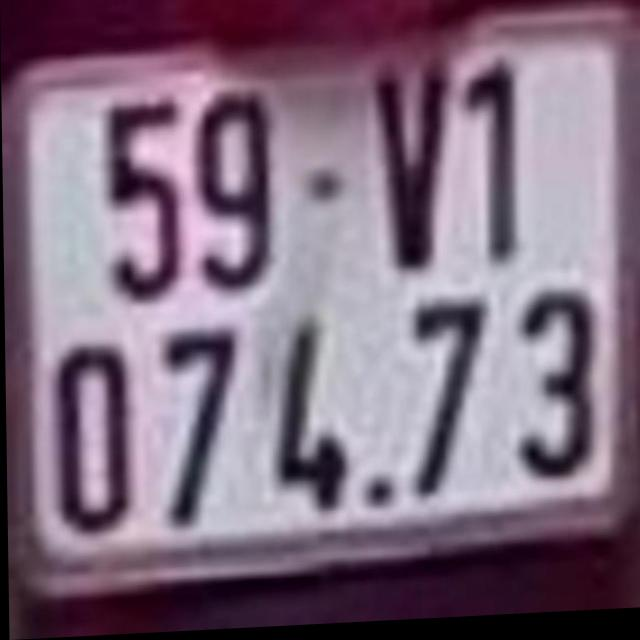0: (47, 336, 128, 540)
1: (461, 62, 523, 276)
3: (516, 281, 600, 501)
4: (275, 319, 346, 509)
5: (105, 98, 183, 309)
7: (154, 324, 237, 534), (408, 303, 485, 504)
9: (192, 89, 275, 299)
V: (367, 52, 451, 278)
